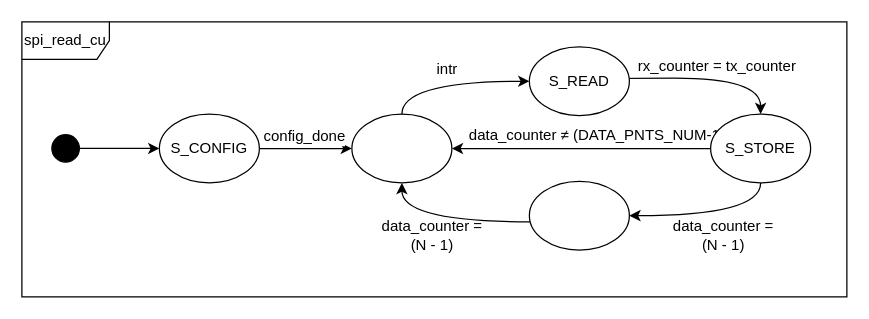
This 869x319 diagram has some shape labels left out. Each missing label, with the centre of its shape:
S_IDLE: [401,148]
S_SEND: [578,215]
